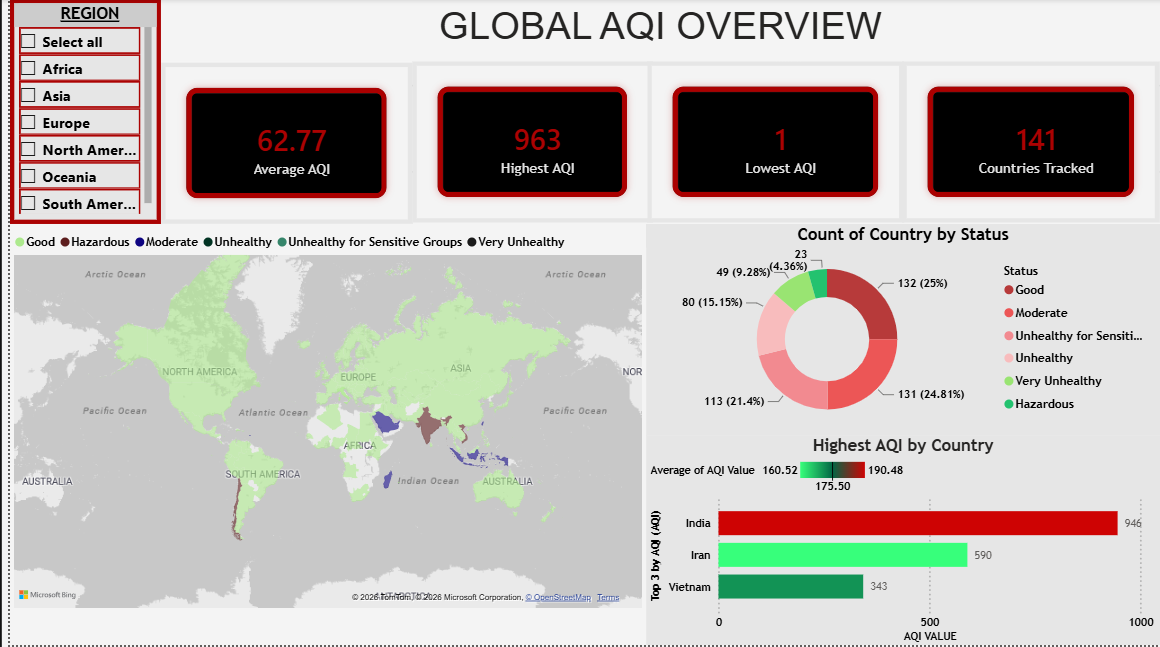

What the dashboard file says about the page in this screenshot:
{"tool":"powerbi","page":{"name":"Page 1","canvas":[1280,720],"ordinal":0},"visuals":[{"type":"listSlicer","title":"REGION","fields":{"Values":["AQI_Data.Continent"]},"box":[0,0,168.3,250.4],"z":0},{"type":"textbox","box":[168.3,0,1111.7,69.6],"z":1000},{"type":"cardVisual","fields":{"Data":["AQI_Data.Highest AQI"]},"box":[448,69.6,267.1,179.5],"z":2000},{"type":"cardVisual","fields":{"Data":["AQI_Data.Lowest AQI"]},"box":[709.6,69.6,285.2,179.5],"z":3000},{"type":"cardVisual","fields":{"Data":["AQI_Data.Countries Tracked"]},"box":[993.4,69.6,286.6,179.5],"z":4000},{"type":"cardVisual","fields":{"Data":["AQI_Data.Average AQI"]},"box":[168.3,71,279.7,179.5],"z":5000},{"type":"filledMap","fields":{"Category":["AQI_Data.Country"],"Series":["AQI_Data.Status"]},"box":[0,250.4,708.2,470.3],"z":6000},{"type":"donutChart","fields":{"Category":["AQI_Data.Status"],"Y":["Count(AQI_Data.Country)"]},"box":[708.2,250.4,571.8,235.1],"z":7000},{"type":"barChart","fields":{"Category":["AQI_Data.Country"],"Y":["AQI_Data.Highest AQI"]},"box":[708.2,485.6,571.8,235.1],"z":8000}]}

Visuals, with their boxes in screenshot pixels (x1, y1, x2, y2), scaled from the page's 1280x720 canvas onto the 1160x647 screenshot:
"REGION" listSlicer: locate(0, 0, 153, 225)
textbox: locate(153, 0, 1159, 63)
cardVisual - AQI_Data.Highest AQI: locate(406, 63, 648, 224)
cardVisual - AQI_Data.Lowest AQI: locate(643, 63, 902, 224)
cardVisual - AQI_Data.Countries Tracked: locate(900, 63, 1159, 224)
cardVisual - AQI_Data.Average AQI: locate(153, 64, 406, 225)
filledMap - AQI_Data.Country x AQI_Data.Status: locate(0, 225, 642, 646)
donutChart - AQI_Data.Status x Count(AQI_Data.Country): locate(642, 225, 1159, 436)
barChart - AQI_Data.Country x AQI_Data.Highest AQI: locate(642, 436, 1159, 646)
